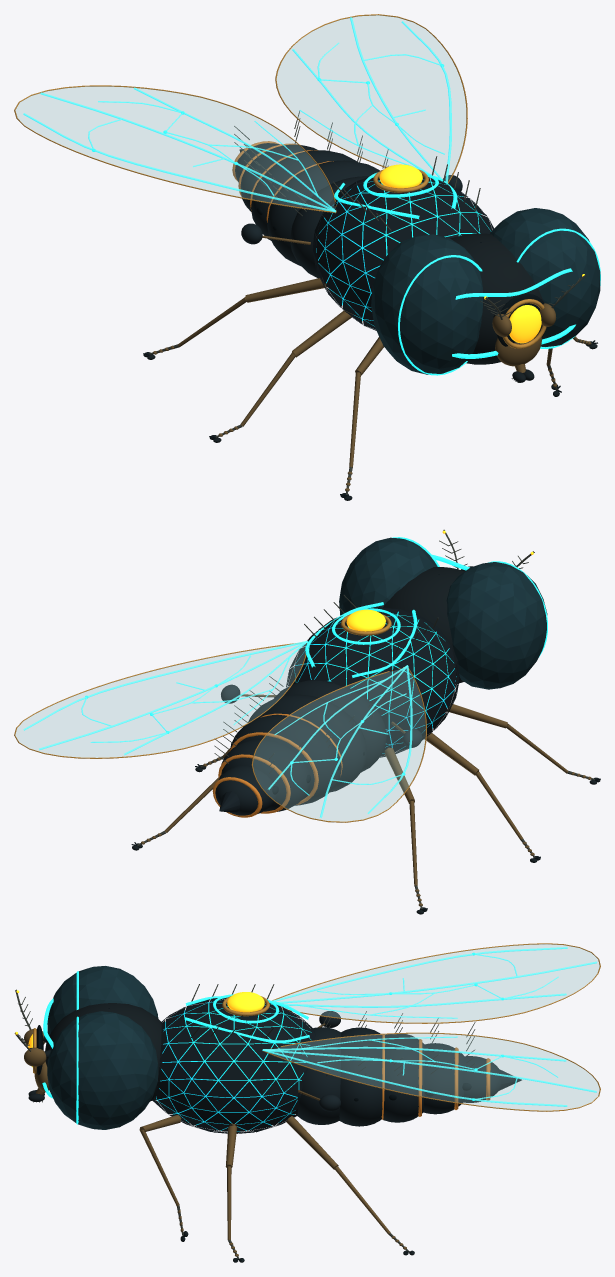
Rendered from mirror-gap-v5.1.1.glb.
3 views of the same model, one above another, from view 1: azimuth 30°, elevation 25°; view 2: azimuth 150°, elevation 25°; view 3: azimuth 270°, elevation 25° (orthographic). The views are drawn at different scales.
Parts seen in each view (by area): view 1: Thin_wing_membrane (×2), Separate_head_Left_compound_eye_batch, Faceted_obsidian_thorax, Horizontal_segmented_abdomen_Abdominal_segment_1_batch, Head_capsule, Left_single_membrane_wing_Cyan_neural_wing_vein_1_batch, Right_single_membrane_wing_Cyan_neural_wing_vein_1_batch, Thorax_inner_cyan_fissures, Costal_wing_gold_edge (×2), Separate_head_Cyan_compound_eye_rim_batch, Femur (×2), Facial_amber_core (+4 smaller); view 2: Thin_wing_membrane (×2), Separate_head_Left_compound_eye_batch, Horizontal_segmented_abdomen_Abdominal_segment_1_batch, Faceted_obsidian_thorax, Head_capsule, Right_single_membrane_wing_Cyan_neural_wing_vein_1_batch, Thorax_inner_cyan_fissures, Left_single_membrane_wing_Cyan_neural_wing_vein_1_batch, Costal_wing_gold_edge (×2), Horizontal_segmented_abdomen_Amber_tergite_seam_1_batch, Thorax_pitch_and_bank_Dorsal_core_cyan_fissure_batch, Femur (×2) (+2 smaller); view 3: Thin_wing_membrane (×2), Faceted_obsidian_thorax, Separate_head_Left_compound_eye_batch, Horizontal_segmented_abdomen_Abdominal_segment_1_batch, Thorax_inner_cyan_fissures, Right_single_membrane_wing_Cyan_neural_wing_vein_1_batch, Left_single_membrane_wing_Cyan_neural_wing_vein_1_batch, Costal_wing_gold_edge (×2), Head_capsule, Thorax_pitch_and_bank_Dorsal_core_cyan_fissure_batch, Horizontal_segmented_abdomen_Amber_tergite_seam_1_batch, Separate_head_Cyan_compound_eye_rim_batch (+3 smaller).
Part boxes in pixels (bbox=[...]): Thin_wing_membrane (×2): bbox=[15, 15, 465, 210]; Separate_head_Left_compound_eye_batch: bbox=[371, 208, 600, 374]; Faceted_obsidian_thorax: bbox=[312, 177, 493, 330]; Horizontal_segmented_abdomen_Abdominal_segment_1_batch: bbox=[235, 143, 379, 278]; Head_capsule: bbox=[450, 233, 544, 364]; Left_single_membrane_wing_Cyan_neural_wing_vein_1_batch: bbox=[23, 87, 335, 212]; Right_single_membrane_wing_Cyan_neural_wing_vein_1_batch: bbox=[292, 17, 451, 182]; Thorax_inner_cyan_fissures: bbox=[316, 179, 491, 326]; Costal_wing_gold_edge (×2): bbox=[14, 14, 467, 213]; Separate_head_Cyan_compound_eye_rim_batch: bbox=[398, 228, 600, 375]; Femur (×2): bbox=[245, 278, 353, 357]; Facial_amber_core: bbox=[509, 305, 541, 343]; Thin_wing_membrane (×2): bbox=[15, 644, 425, 821]; Separate_head_Left_compound_eye_batch: bbox=[339, 537, 547, 689]; Horizontal_segmented_abdomen_Abdominal_segment_1_batch: bbox=[215, 679, 386, 815]; Faceted_obsidian_thorax: bbox=[286, 607, 459, 757]; Head_capsule: bbox=[382, 567, 464, 683]; Right_single_membrane_wing_Cyan_neural_wing_vein_1_batch: bbox=[23, 640, 307, 755]; Thorax_inner_cyan_fissures: bbox=[294, 611, 456, 753]; Left_single_membrane_wing_Cyan_neural_wing_vein_1_batch: bbox=[267, 665, 412, 817]; Costal_wing_gold_edge (×2): bbox=[14, 643, 426, 822]; Horizontal_segmented_abdomen_Amber_tergite_seam_1_batch: bbox=[212, 713, 342, 817]; Thorax_pitch_and_bank_Dorsal_core_cyan_fissure_batch: bbox=[305, 602, 417, 677]; Femur (×2): bbox=[423, 704, 507, 775]; Thin_wing_membrane (×2): bbox=[271, 944, 599, 1110]; Faceted_obsidian_thorax: bbox=[152, 997, 315, 1133]; Separate_head_Left_compound_eye_batch: bbox=[47, 966, 158, 1129]; Horizontal_segmented_abdomen_Abdominal_segment_1_batch: bbox=[296, 1027, 500, 1126]; Thorax_inner_cyan_fissures: bbox=[156, 1000, 311, 1131]; Right_single_membrane_wing_Cyan_neural_wing_vein_1_batch: bbox=[262, 1036, 596, 1106]; Left_single_membrane_wing_Cyan_neural_wing_vein_1_batch: bbox=[265, 947, 597, 1018]; Costal_wing_gold_edge (×2): bbox=[263, 943, 600, 1111]; Head_capsule: bbox=[45, 1003, 163, 1101]; Thorax_pitch_and_bank_Dorsal_core_cyan_fissure_batch: bbox=[185, 994, 309, 1043]; Horizontal_segmented_abdomen_Amber_tergite_seam_1_batch: bbox=[381, 1034, 490, 1119]; Separate_head_Cyan_compound_eye_rim_batch: bbox=[42, 971, 78, 1124].
Size of the model in its own units: 1.15 by 0.6411 by 1.71.
